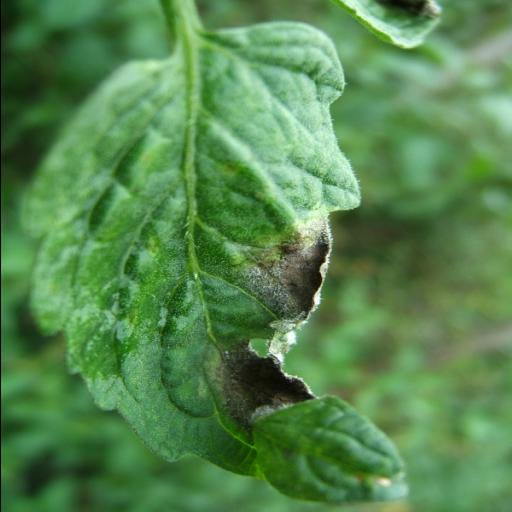disease_tomato: (14, 20, 378, 495)
